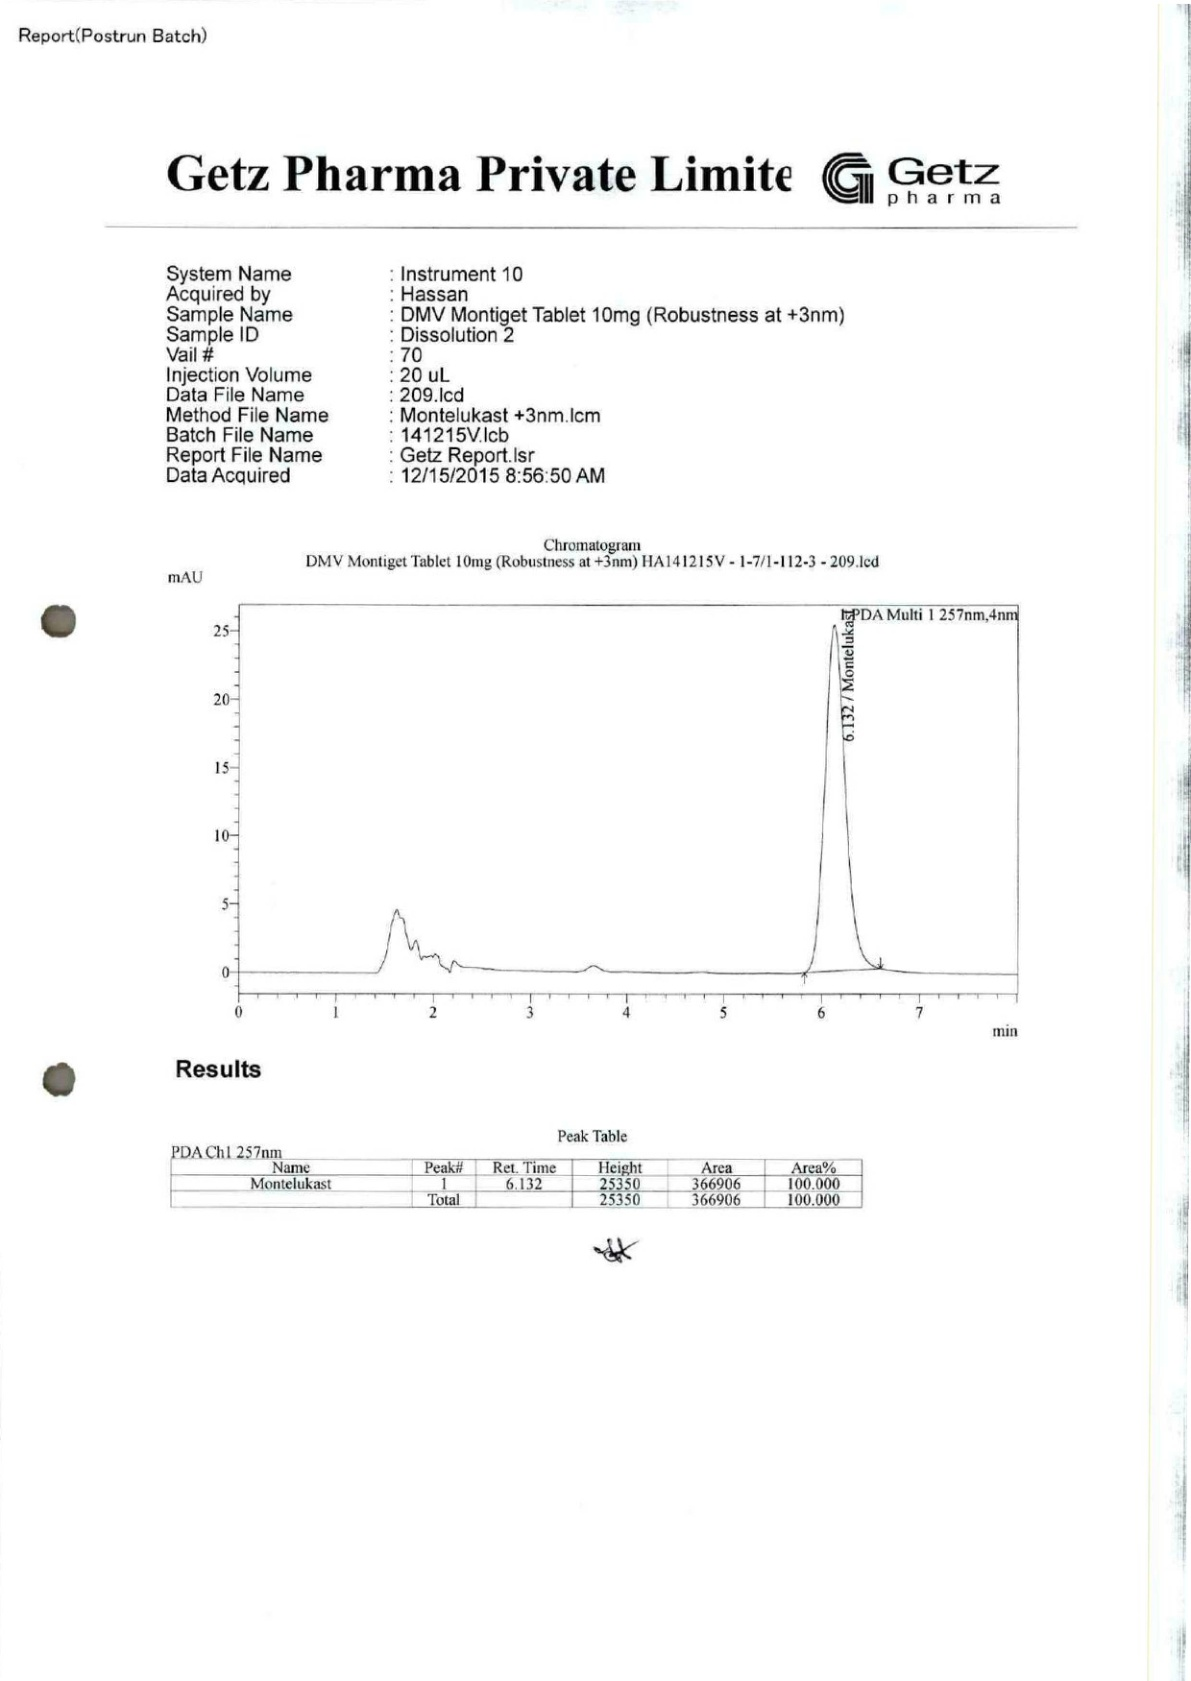full_lined: (168, 1156, 864, 1210)
nolines: (159, 259, 849, 491)
